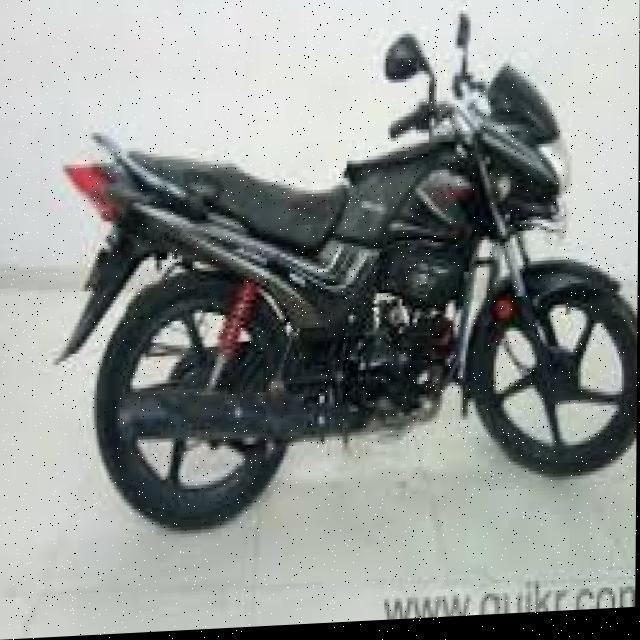bike: (25, 46, 640, 553)
